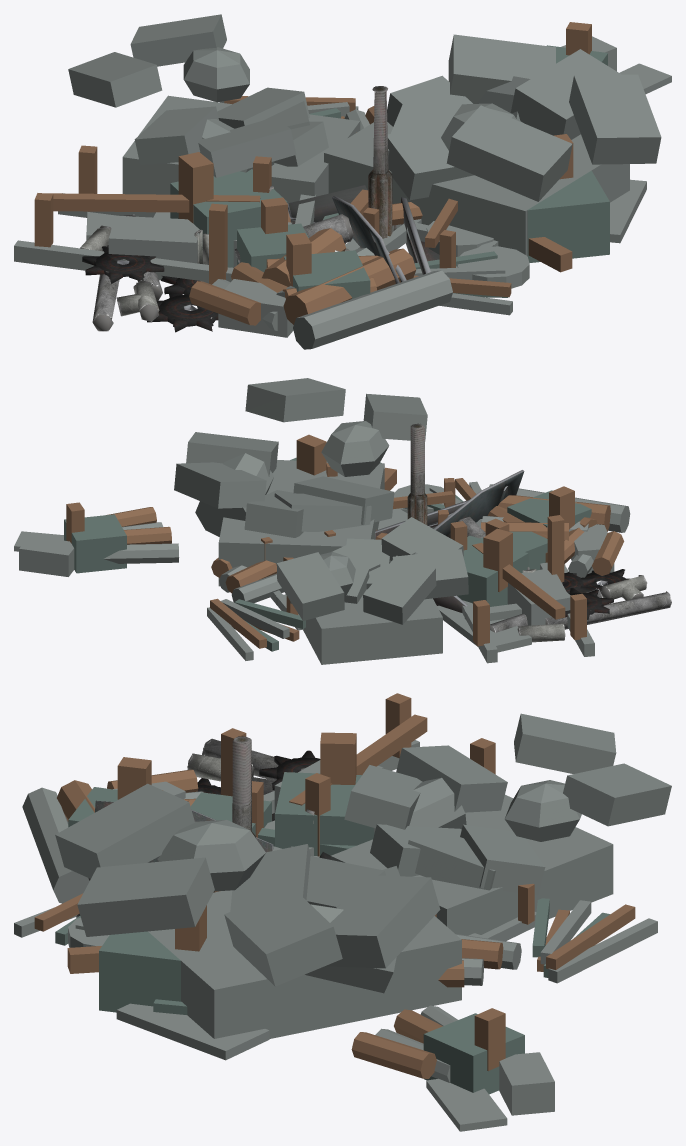
The model's file is scrap_small.glb.
3 renders of one model, top to bottom at view 1: azimuth 30°, elevation 25°; view 2: azimuth 150°, elevation 25°; view 3: azimuth 270°, elevation 25°, orthographic. The views are drawn at different scales.
Parts seen in each view (by area): view 1: defaultMaterial.001; view 2: defaultMaterial.001; view 3: defaultMaterial.001.
Boxes of the visible parts, <box> form: defaultMaterial.001: <box>14,14,671,349</box>; defaultMaterial.001: <box>14,378,671,664</box>; defaultMaterial.001: <box>14,693,671,1131</box>.
Size of the model in its own units: 4.79 by 1.07 by 3.53.
Materials: 7 (1 with a texture image).
